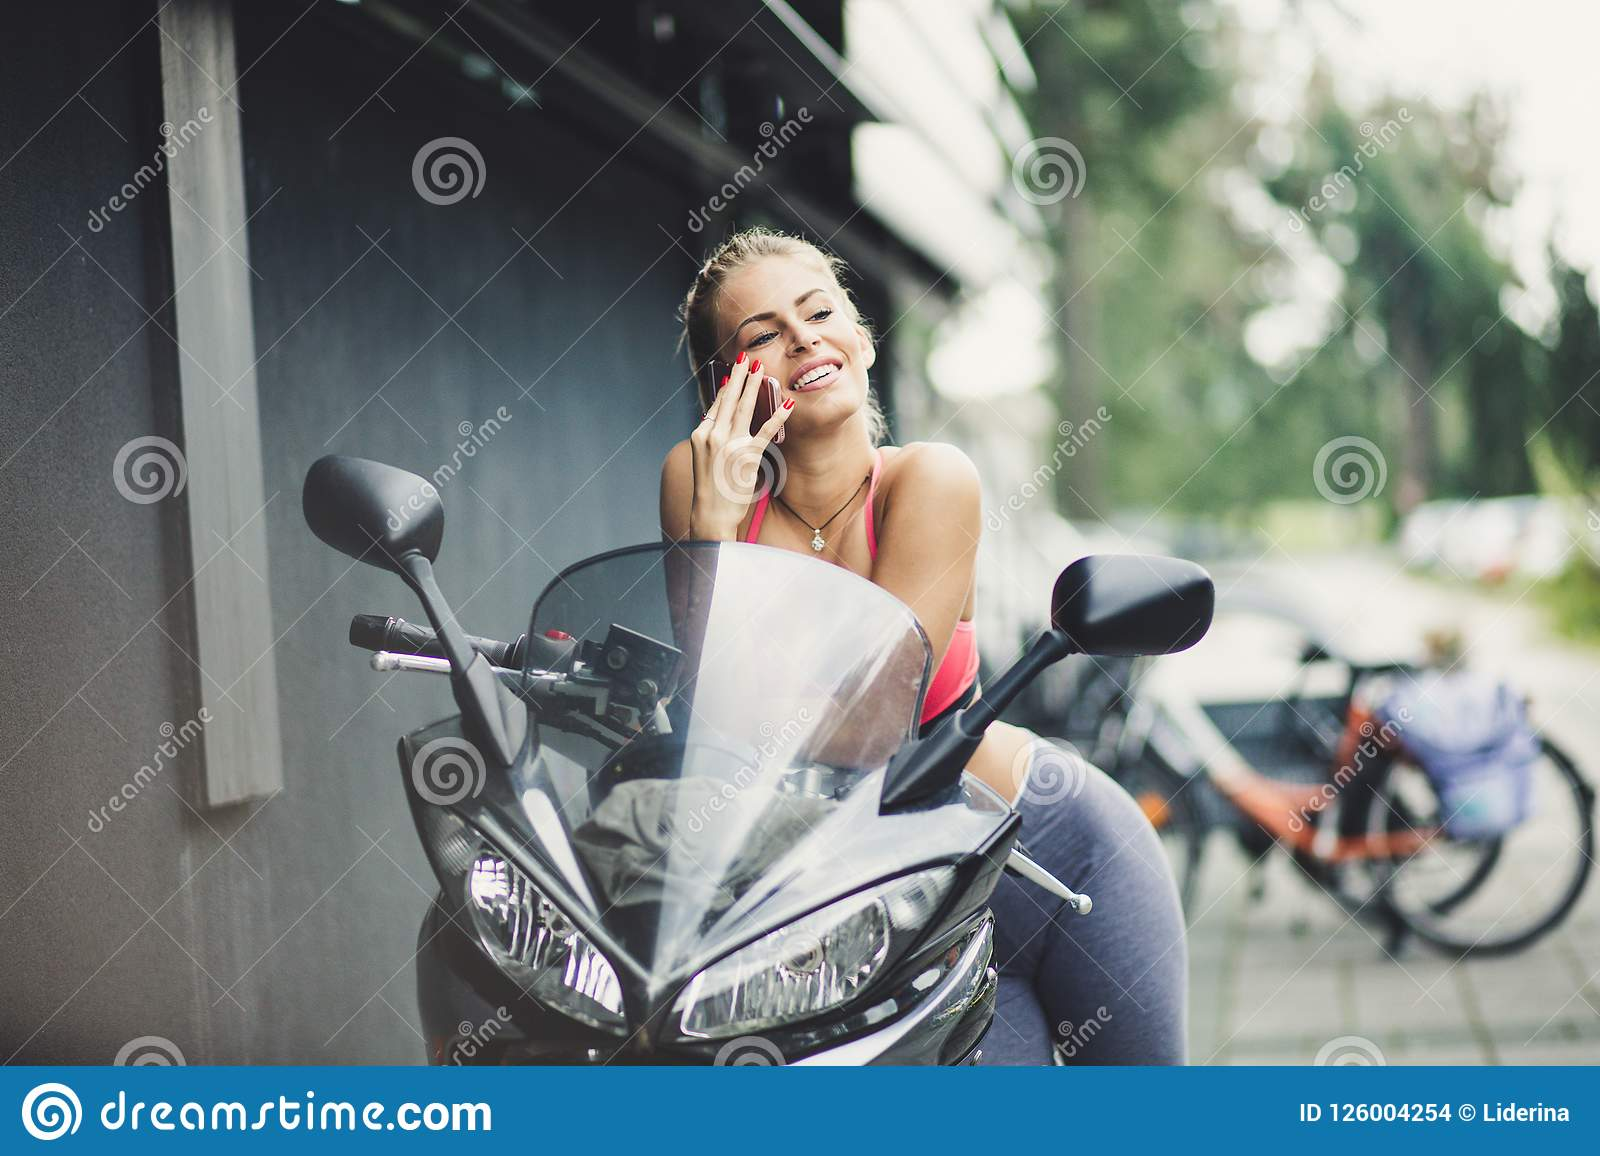phone: (704, 361, 791, 447)
talk: (687, 281, 868, 526)
